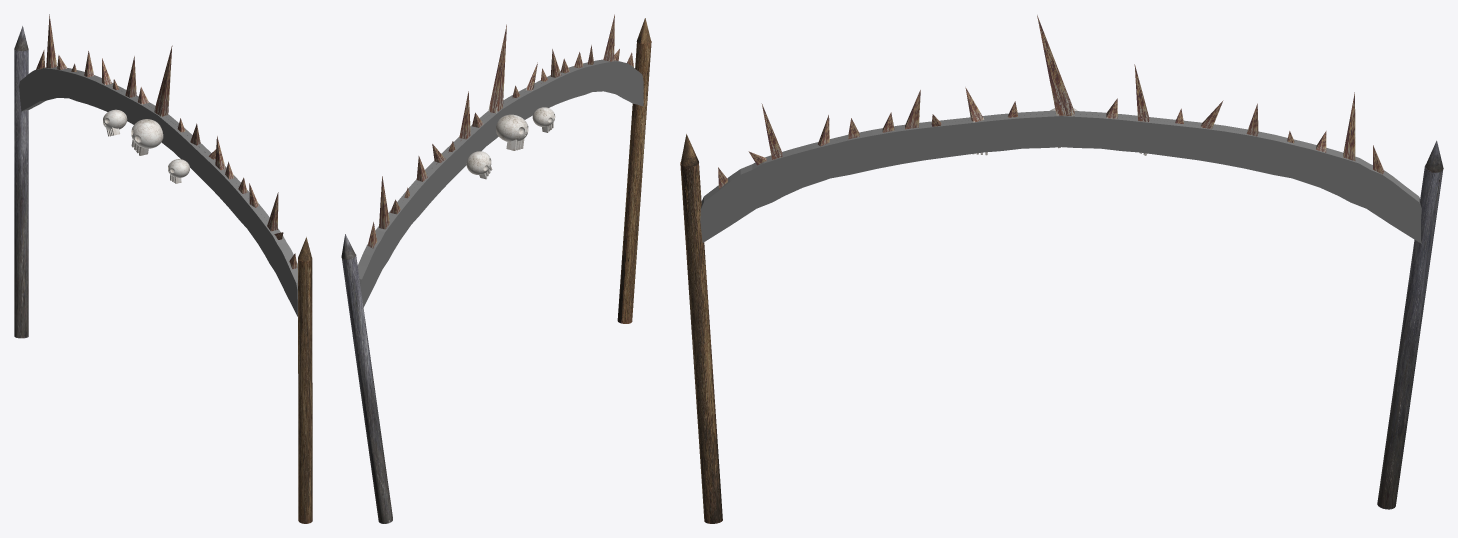
The model's file is GoalPost.fbx.
The picture shows the model from 3 angles, left to right: view 1: azimuth 30°, elevation 25°; view 2: azimuth 150°, elevation 25°; view 3: azimuth 270°, elevation 25°; orthographic projection. The views are drawn at different scales.
Visible parts, largest first — view 1: Line002, Cylinder003, Cylinder004, Line004, Sphere001, Pyramid002, Line003, Sphere002, Sphere003; view 2: Line004, Cylinder003, Cylinder004, Line002, Sphere001, Pyramid002, Line005, Sphere002, Sphere003; view 3: Line003, Line005, Cylinder004, Cylinder003, Pyramid002, Line004, Line002.
Part boxes in pixels (<box>): Line002: <box>157,115,297,316</box>; Cylinder003: <box>14,26,28,338</box>; Cylinder004: <box>298,237,312,523</box>; Line004: <box>19,67,159,124</box>; Sphere001: <box>131,119,163,155</box>; Pyramid002: <box>154,45,172,116</box>; Line003: <box>165,114,297,274</box>; Sphere002: <box>103,109,127,136</box>; Sphere003: <box>168,159,189,183</box>; Line004: <box>359,108,502,306</box>; Cylinder003: <box>341,234,392,523</box>; Cylinder004: <box>617,18,651,323</box>; Line002: <box>500,60,643,119</box>; Sphere001: <box>496,114,528,150</box>; Pyramid002: <box>488,24,506,113</box>; Line005: <box>357,111,491,273</box>; Sphere002: <box>466,151,492,179</box>; Sphere003: <box>532,107,555,132</box>; Line003: <box>700,113,1063,242</box>; Line005: <box>1059,114,1421,243</box>; Cylinder004: <box>680,134,722,523</box>; Cylinder003: <box>1377,140,1443,509</box>; Pyramid002: <box>1037,15,1074,116</box>; Line004: <box>1074,111,1419,200</box>; Line002: <box>701,110,1055,203</box>.
Size of the model in its own units: 121 by 1020 by 1406.
Materials: 5 (4 with a texture image).
